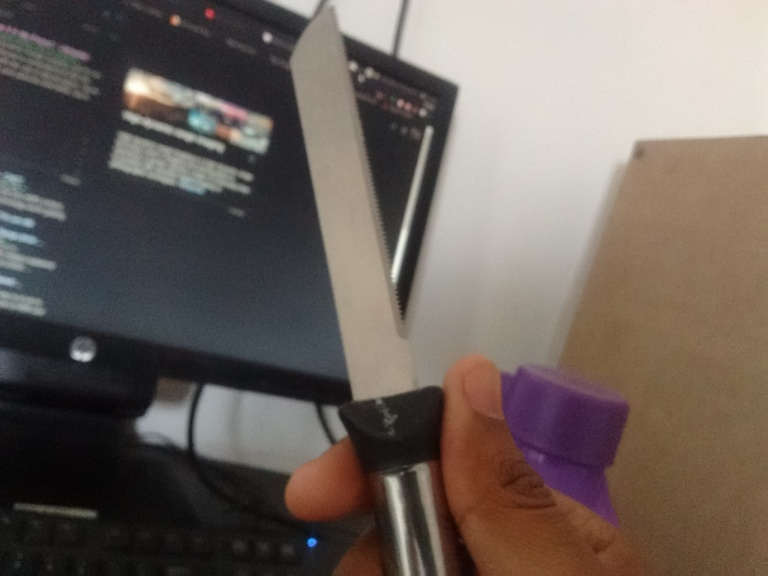knife: (288, 5, 465, 575)
